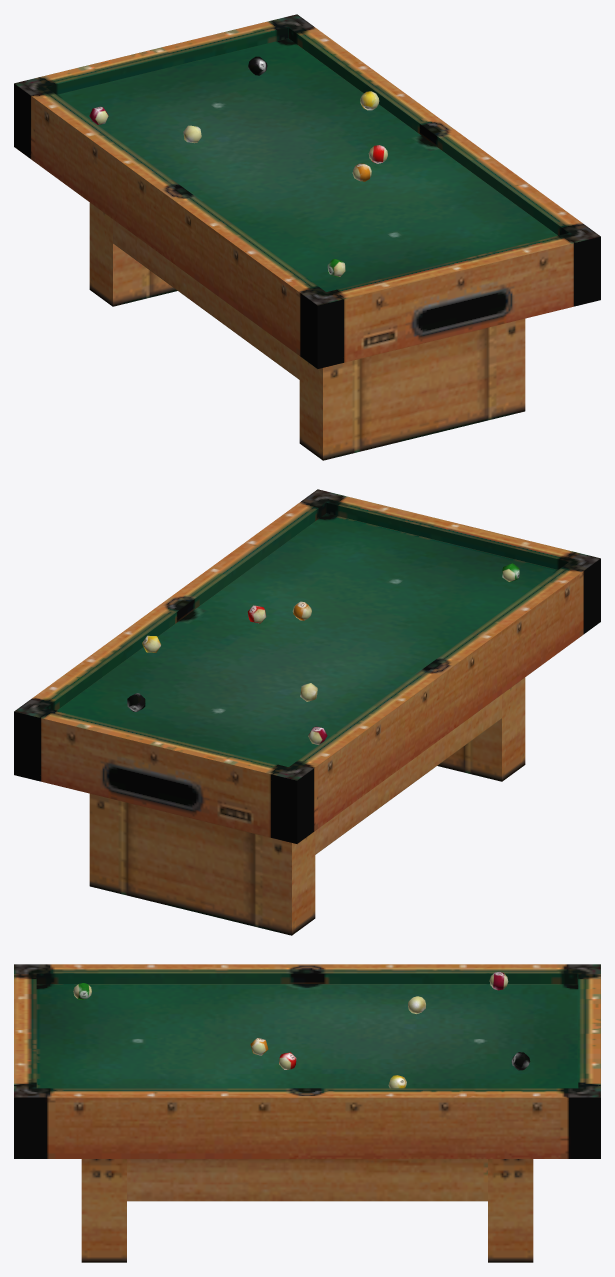
The model's file is pooltable4.fbx.
3 renders of one model, top to bottom at view 1: azimuth 30°, elevation 25°; view 2: azimuth 150°, elevation 25°; view 3: azimuth 270°, elevation 25°, orthographic. The views are drawn at different scales.
Visible parts, largest first — view 1: mesh_0; view 2: mesh_0; view 3: mesh_0.
Part boxes in pixels (x1,y1,x2,y2): mesh_0: (14, 14, 600, 460); mesh_0: (14, 489, 600, 935); mesh_0: (14, 964, 600, 1262).
Size of the model in its own units: 140 by 93.35 by 260.
Materials: 1 (1 with a texture image).
